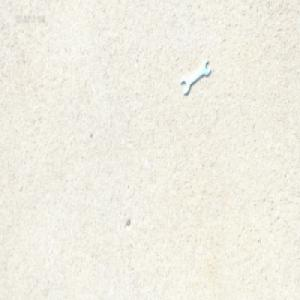Wrench: (182, 60, 210, 95)
